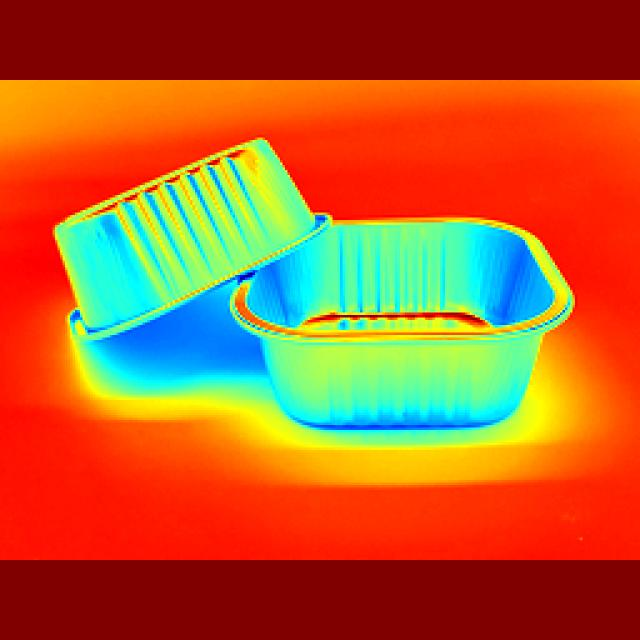Aluminium Food Cans: (226, 205, 564, 432), (49, 150, 318, 314)
